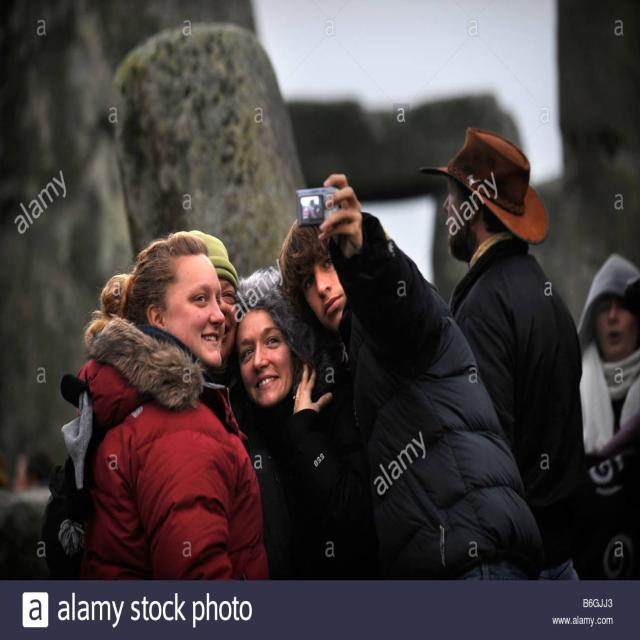body: (281, 170, 544, 580), (417, 125, 602, 580), (38, 232, 272, 580), (132, 229, 270, 581), (232, 266, 368, 580), (571, 247, 640, 580), (0, 436, 65, 580)
